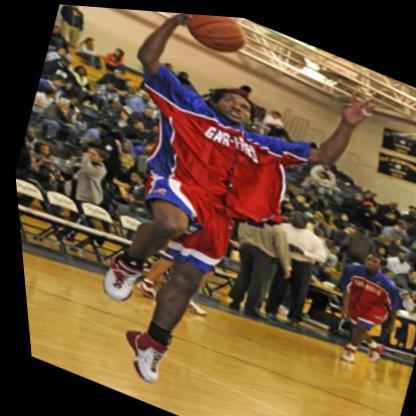basketball: (179, 10, 253, 59)
